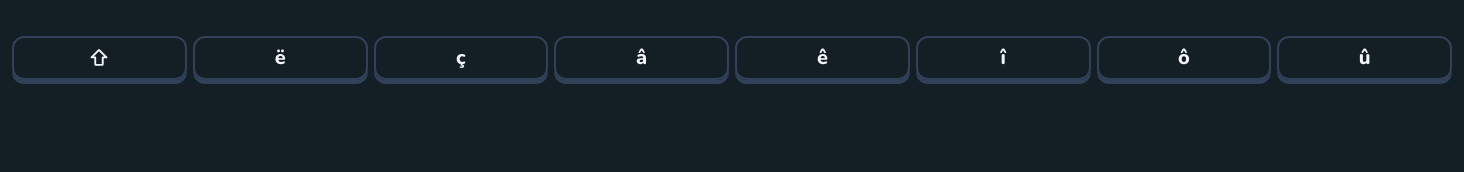
it: SpecialCharBar › inserts uppercase characters while shift is on and lowercase again after turning it off
Click the button named "Grossbuchstaben".
click(99, 58)  # box [12,36,187,80]
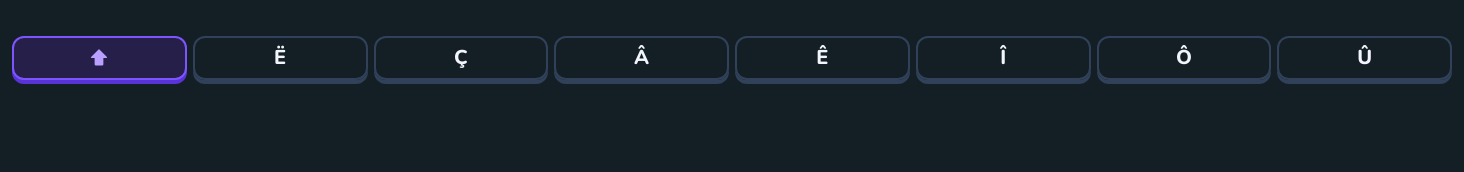
Expected: the button named "Grossbuchstaben" is pressed, [12,36,187,80]
Click the button named "Ë einfügen".
click(280, 58)  # box [193,36,368,80]
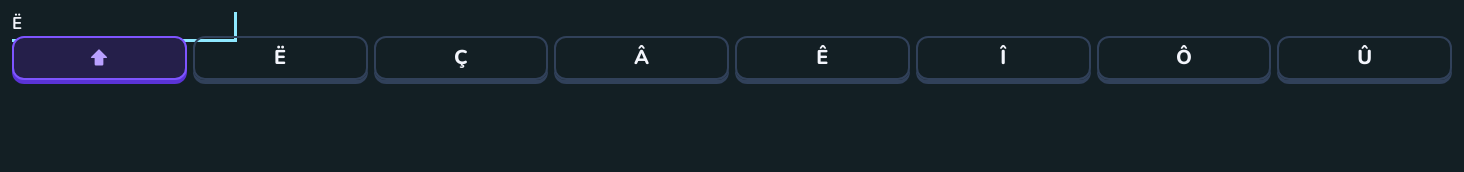
Click the button named "Ç einfügen".
click(461, 58)  # box [374,36,548,80]
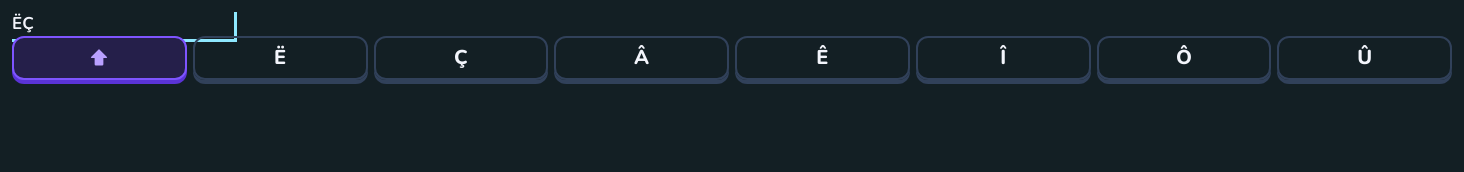
Click the button named "Grossbuchstaben".
click(99, 58)  # box [12,36,187,80]
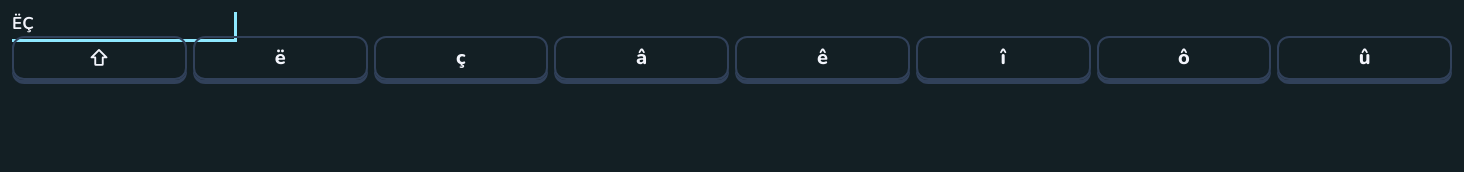
Click the button named "ë einfügen".
click(280, 58)  # box [193,36,368,80]
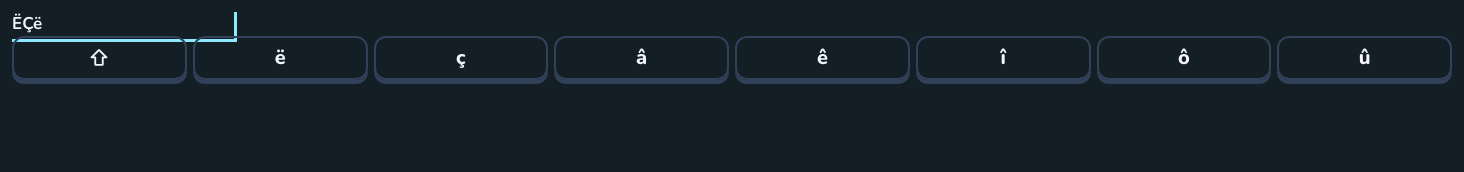
Expected: the field named "Antwort" holds "ËÇë", [12,12,231,36]
